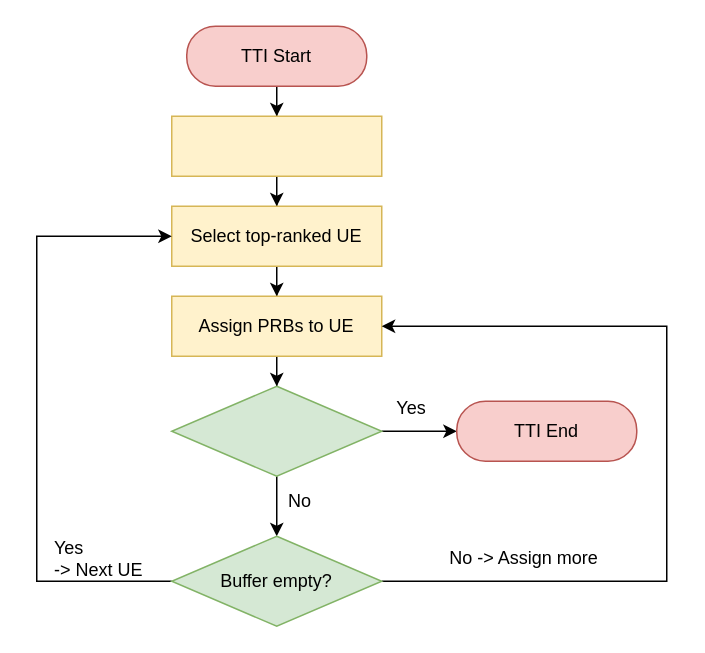
Image size: 705x653. Some labels were removed from this diagram. The centre of each missing label's shape, as x and y in pixels:
PRBs = 0?: point (276, 430)
Sort UEs by CQI: point (276, 145)
